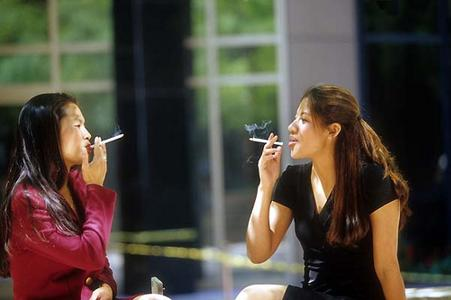person: (245, 84, 410, 300)
